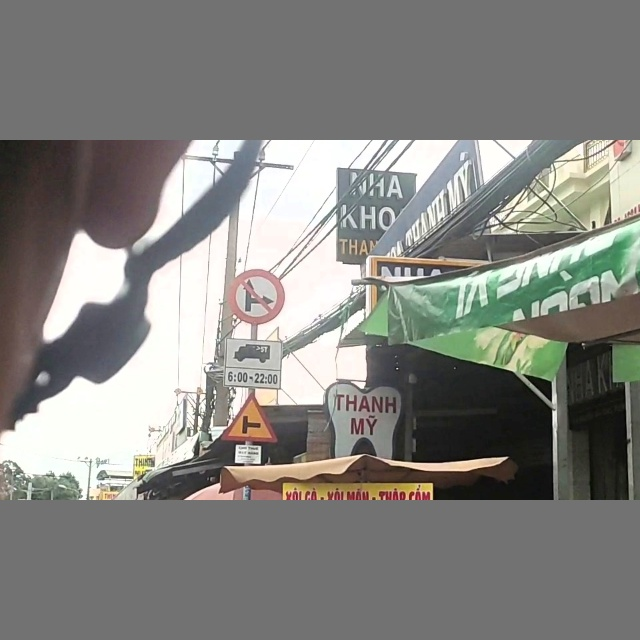P.139: (231, 269, 284, 323)
S.505a*Xe tai: (225, 338, 280, 385)
W.205b: (224, 393, 275, 441)
